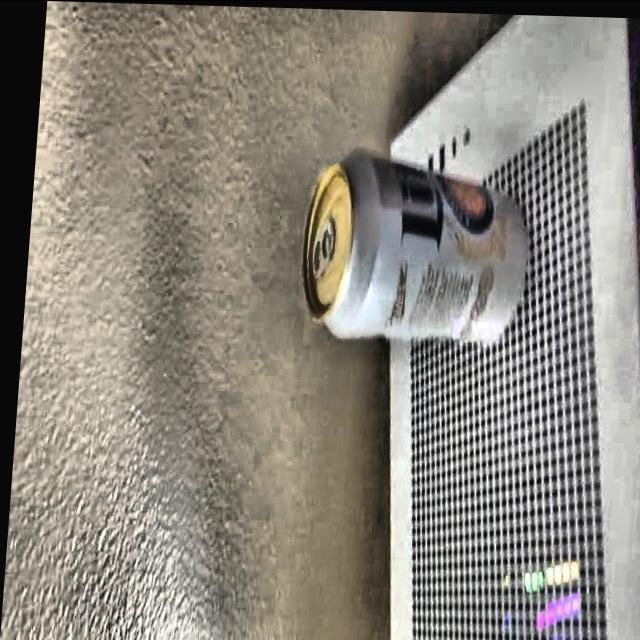Aluminum Can: (277, 145, 536, 346)
